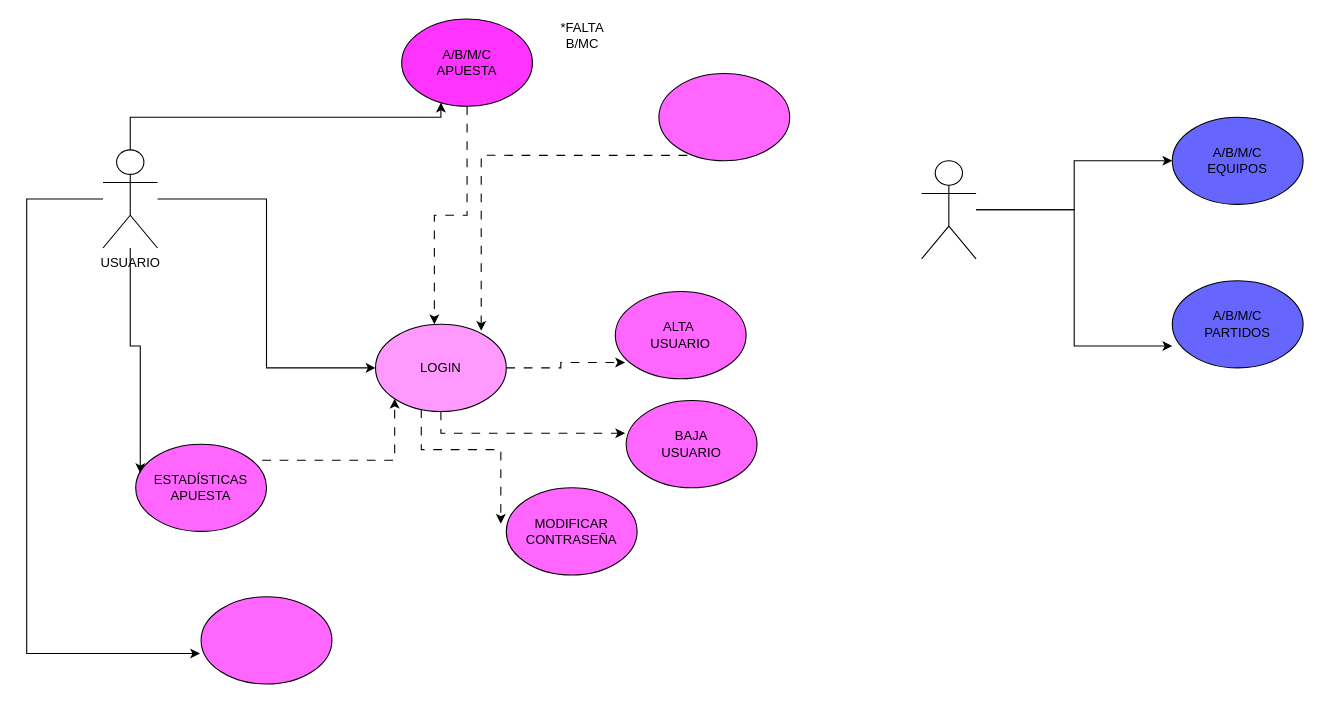
This 1322x703 diagram has some shape labels left out. The centre of each missing label's shape, as x and y in pixels:
"ADMIN" goes at point 948,209.
"GENERAR PARTIDOS" goes at point 266,640.
"SACAR EL FAVORITO DE UN PARTIDO" goes at point 724,116.
